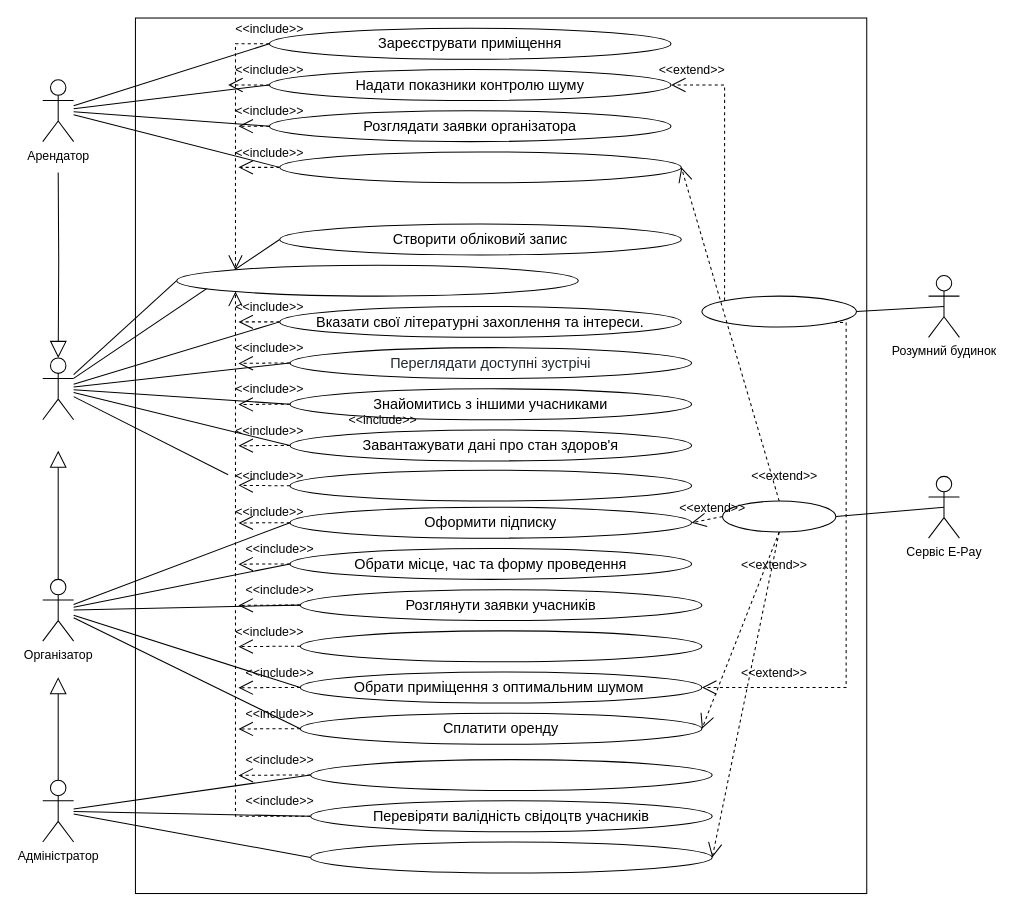
The diagram is 1014 pixels wide and 912 high, and some of its shapes have lost their labels. Here are the shapes that lost their labels. From the top down, the centre of each, then its label:
(480,167): Отримати плату за аренду приміщення
(377,280): Авторизувати користувача
(778,311): Інтегрувати IoT
(58,388): Користувач
(490,485): Вказувати побажання до рівня шуму
(779,516): E-сплата
(500,646): Задати тематику зустрічі та вимоги до учасників
(511,775): Керувати базою облікових записів та існуючих заходів
(511,857): Отримувати відсотки від підписок та аренд
